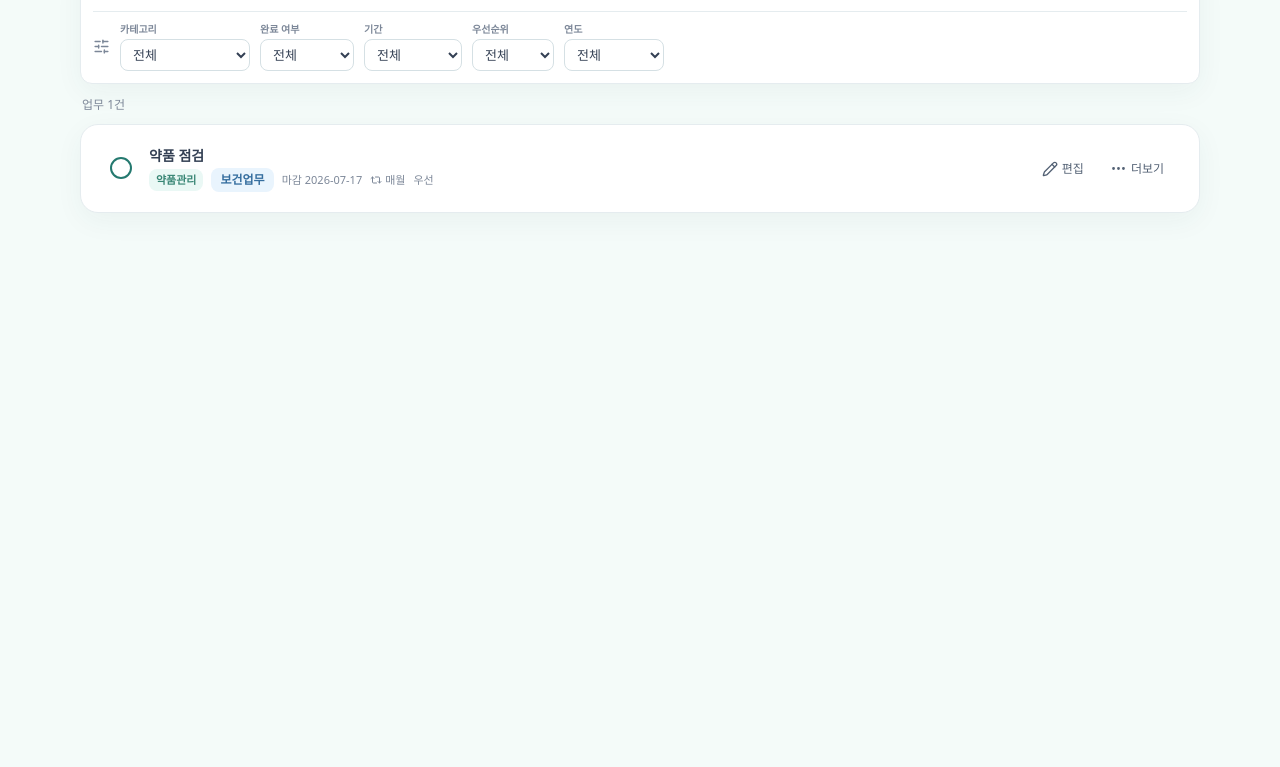
TaskWorkspace › keeps secondary actions inside the more menu
The width and height of the screenshot is (1280, 767).
Click the heading "더보기" at (1137, 168), box [1110,160,1164,177]
(page scrolled)
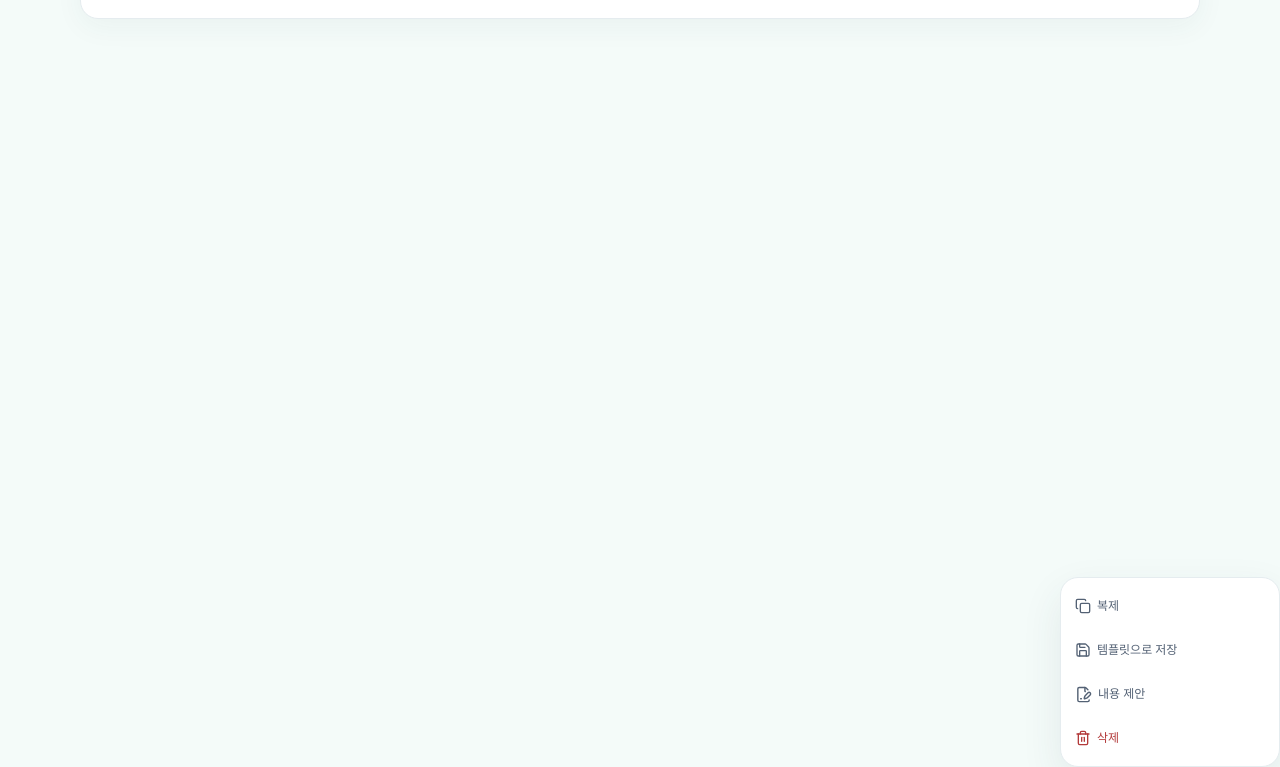
Now the button "내용 제안" is shown, box [1067,672,1273,716]
Now the button "템플릿으로 저장" is shown, box [1067,628,1273,672]
Now the button "삭제" is shown, box [1067,716,1273,760]
